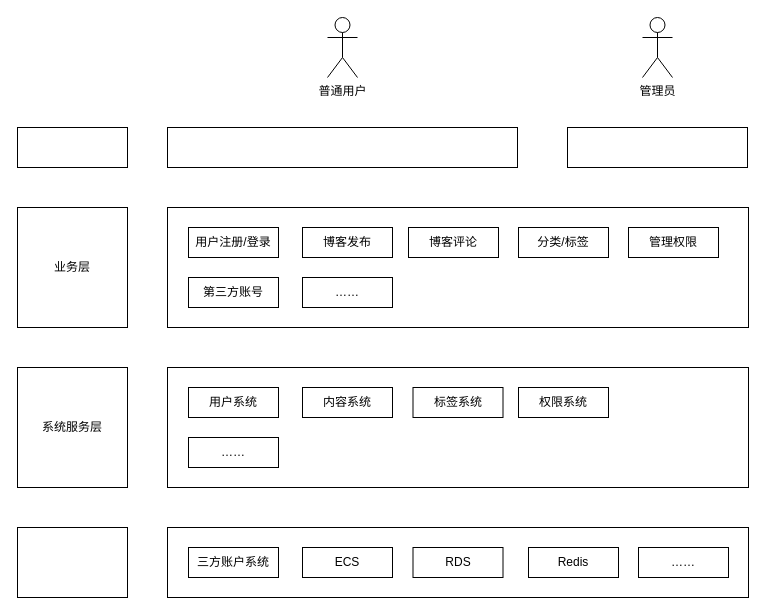
The diagram is 766 pixels wide and 615 high, and some of its shapes have lost their labels. Here are the shapes that lost their labels. From the top down, the box of each, then its label:
(16, 126, 128, 168): 展现层
(166, 126, 518, 168): 用户端
(566, 126, 748, 168): 管理端
(16, 526, 128, 598): 服务支持层
